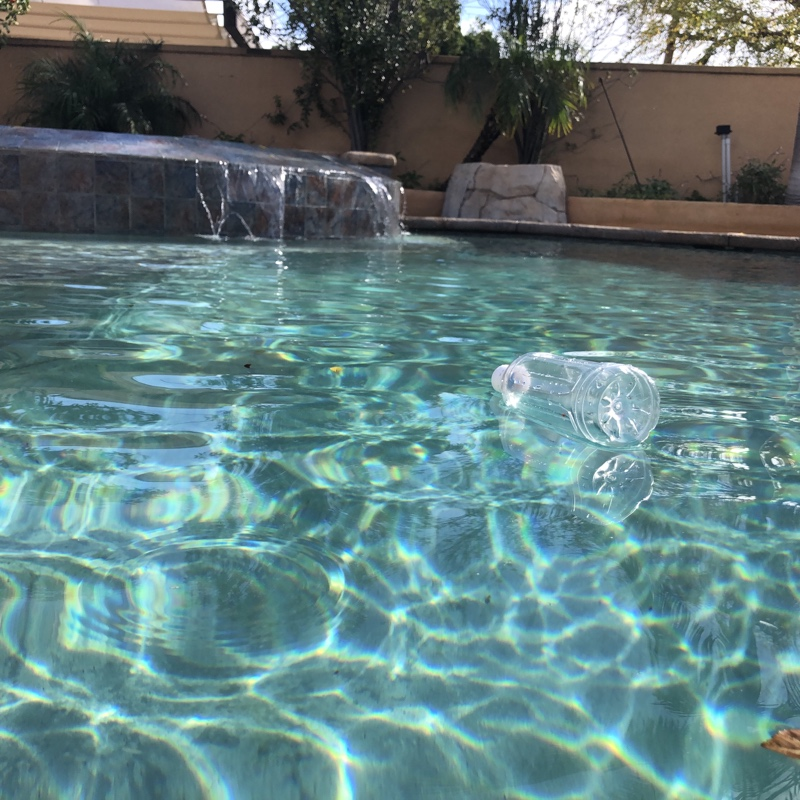Plastic Bottle: (481, 348, 664, 454)
